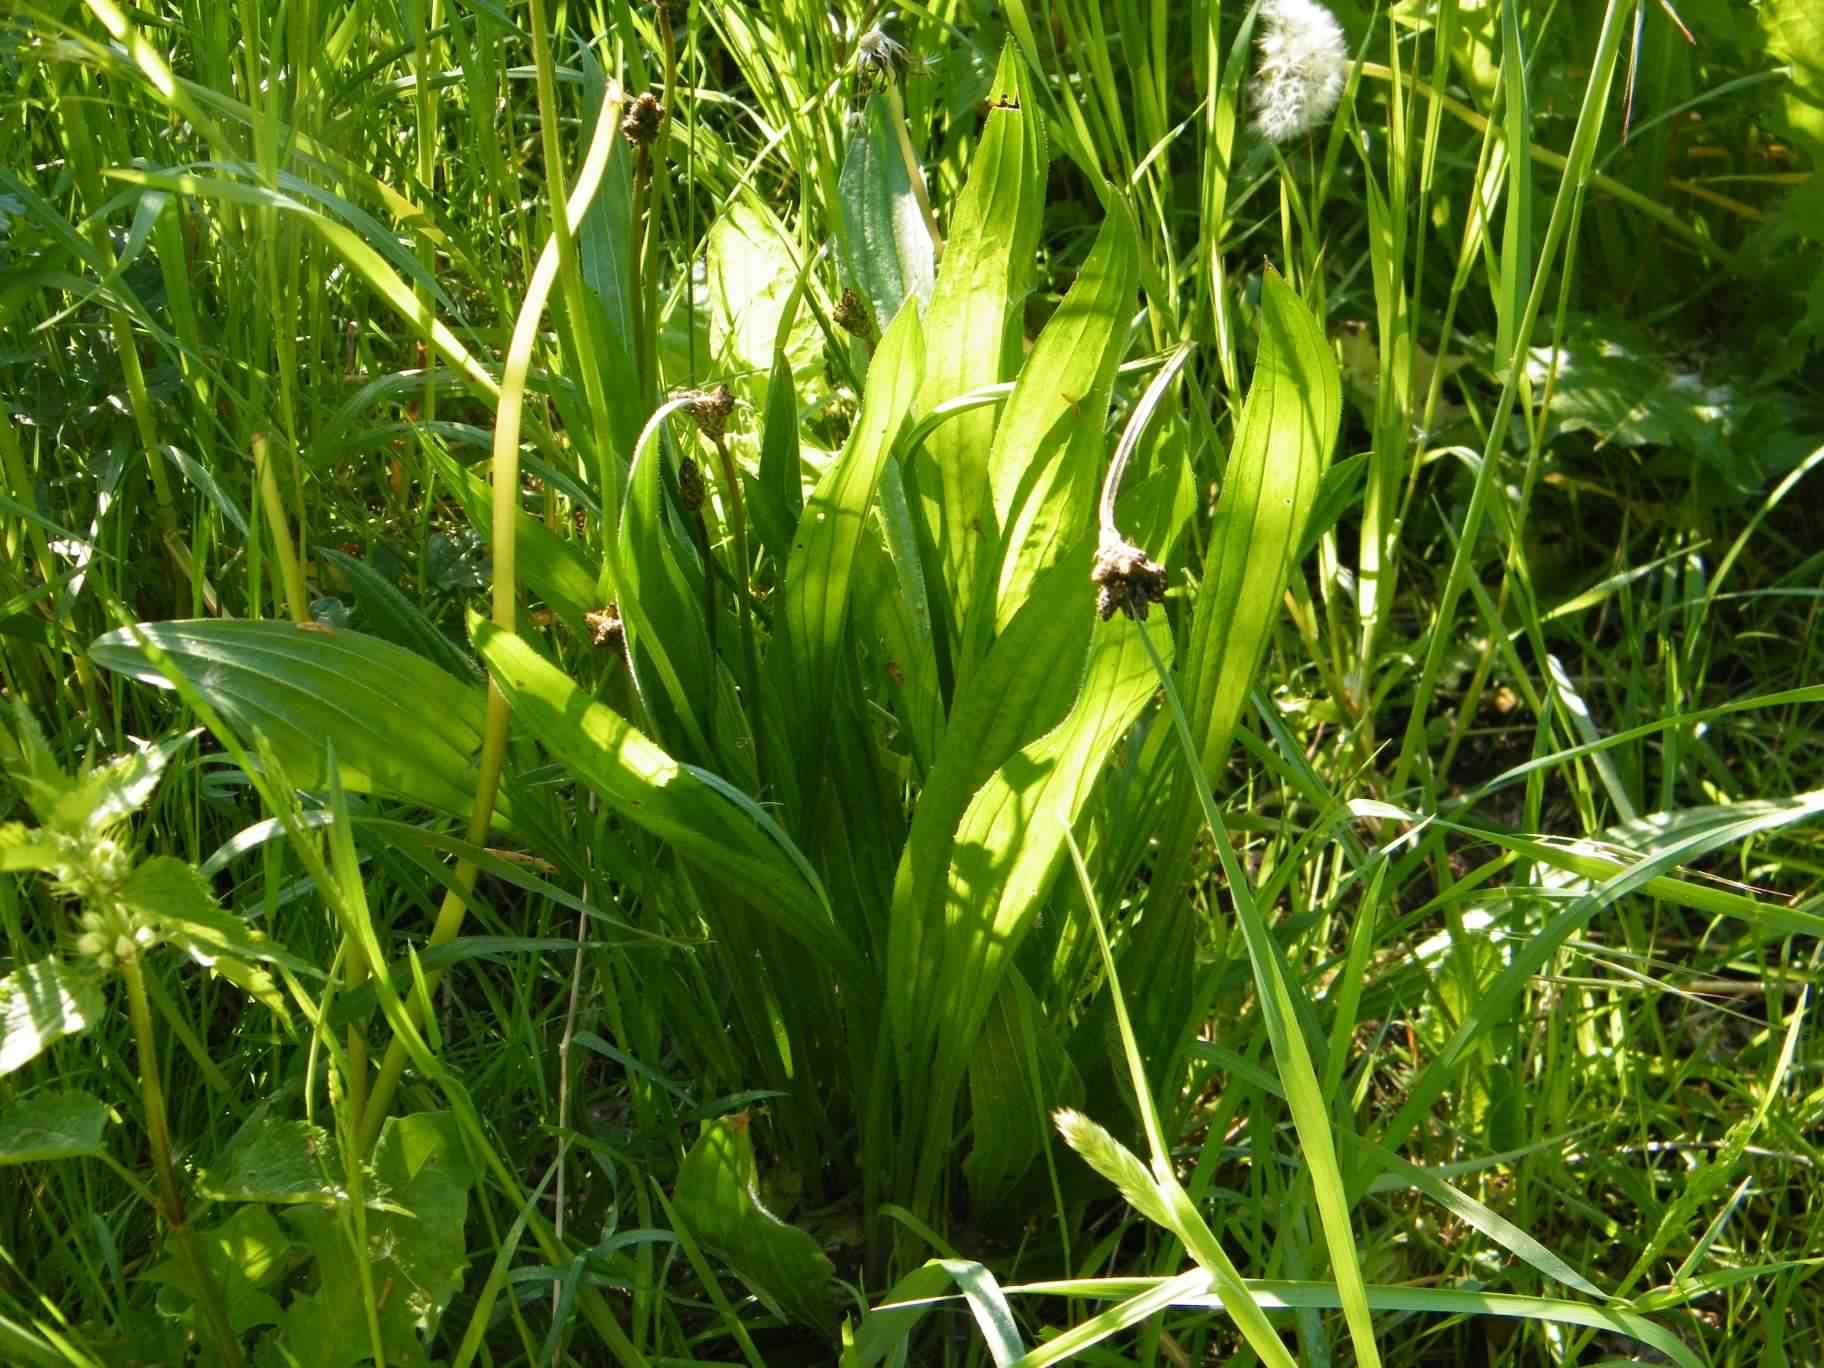buckhorn plantain: (340, 50, 1377, 1308)
